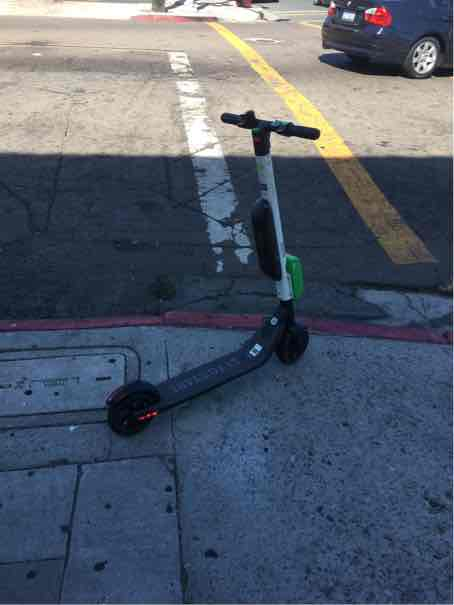scooter: (96, 105, 330, 444)
